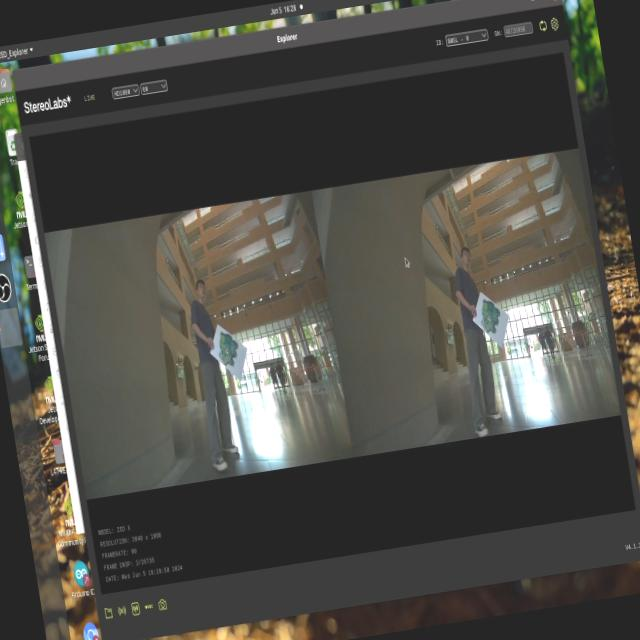green: (208, 322, 242, 370), (478, 300, 500, 333)
